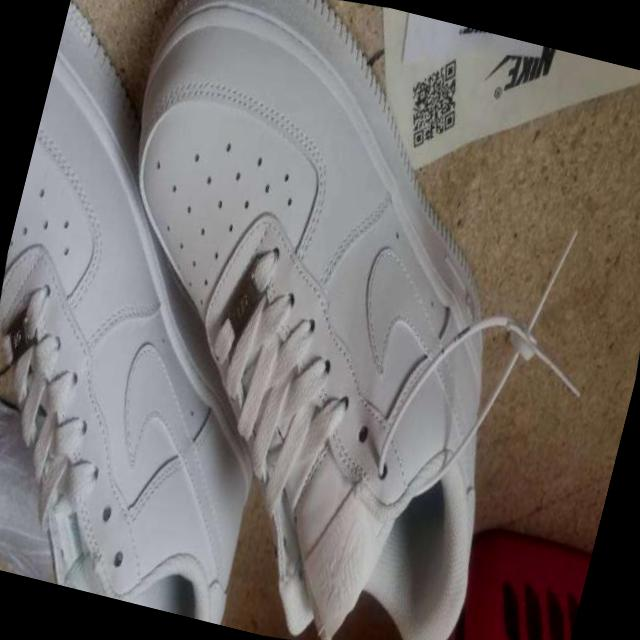nike_original_airforce: (10, 0, 626, 640), (0, 0, 383, 628)
